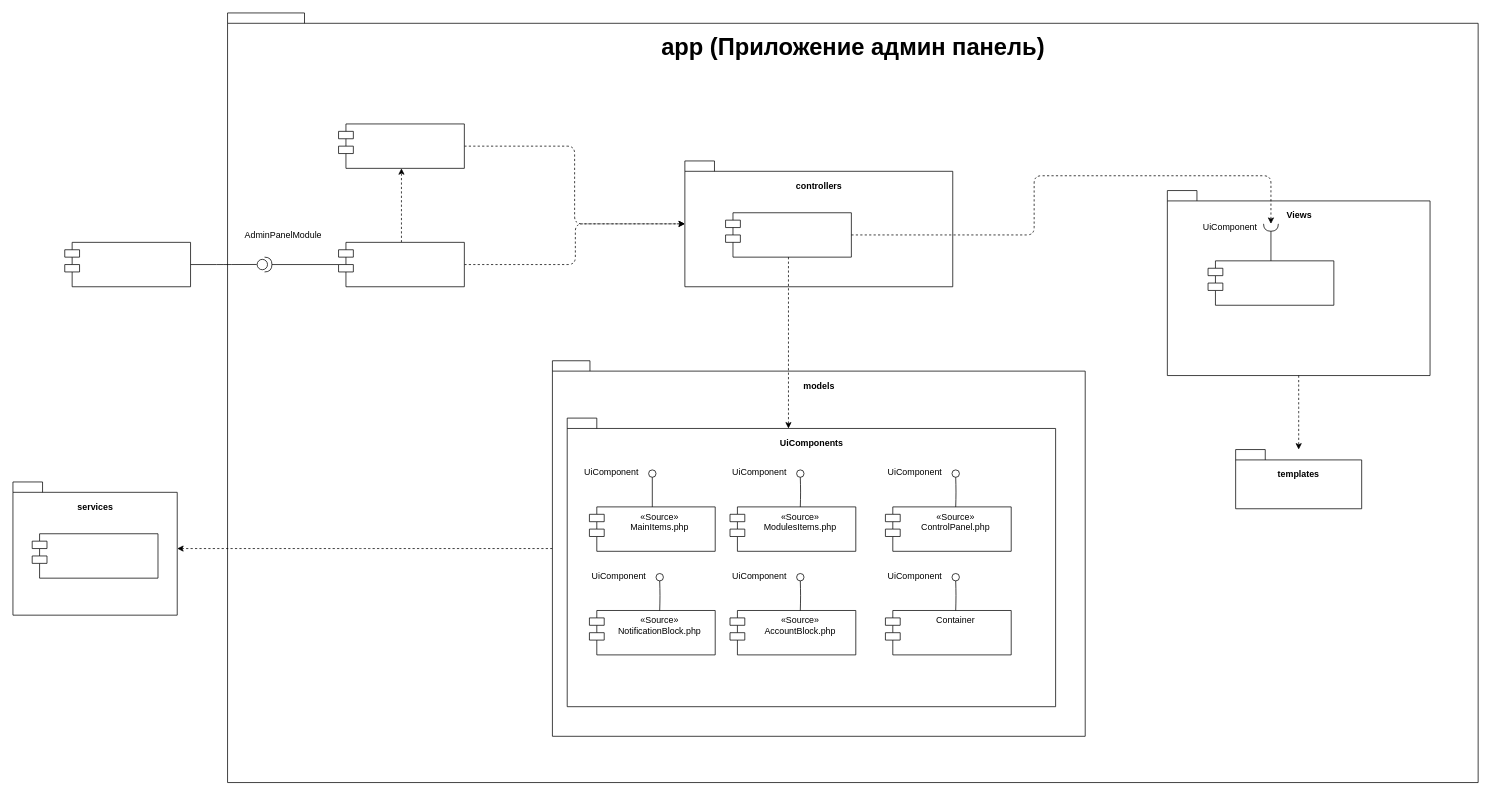
Image size: 1491x796. Some labels were removed from this diagram. Each missing label, with the centre of its shape:
"«executable» AdminPanelAPI.php" belongs at (x=401, y=264).
"«source» AdminRoute.php" belongs at (x=401, y=145).
"«source» DashboardModule.php" belongs at (x=127, y=264).
"«Source» DB.php" belongs at (x=94, y=555).
"«Source» MainController.php" belongs at (x=788, y=234).
"«Source» RenderAdminPage.php" belongs at (x=1270, y=282).
